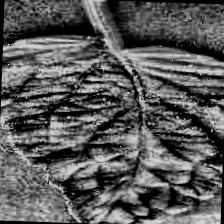leaf mold: (0, 36, 224, 224)
